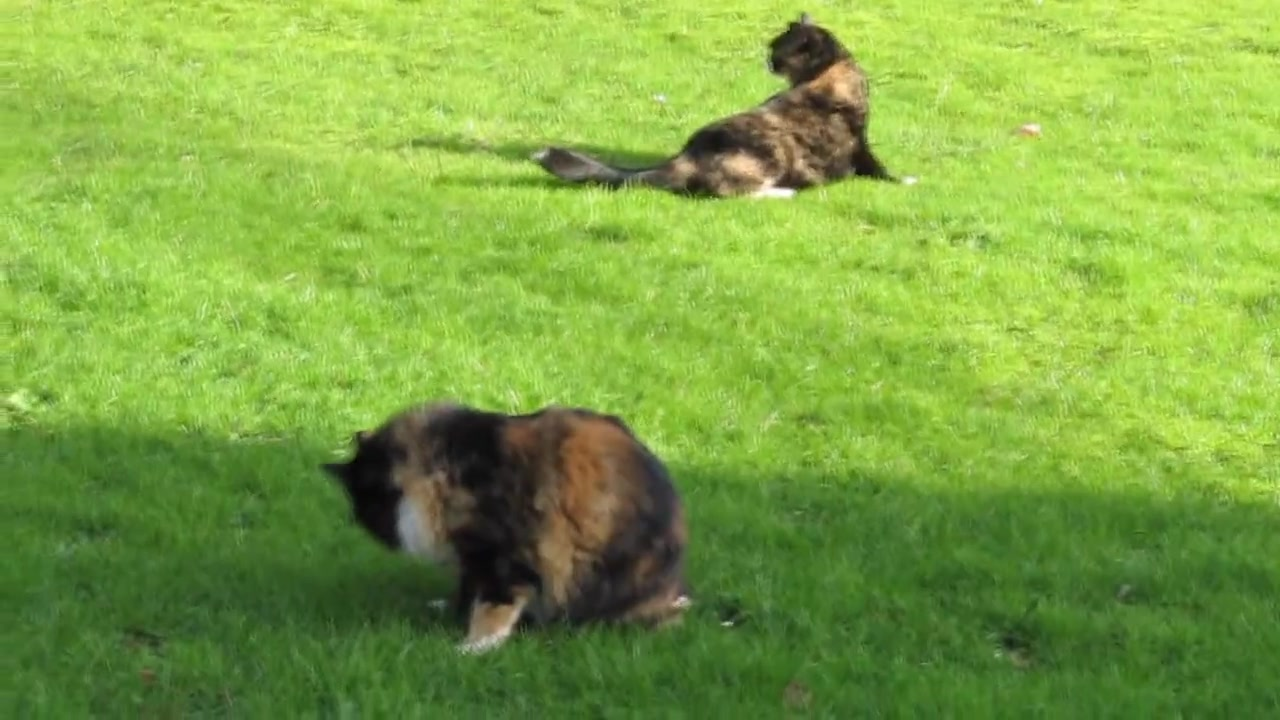cat: (319, 403, 693, 658)
